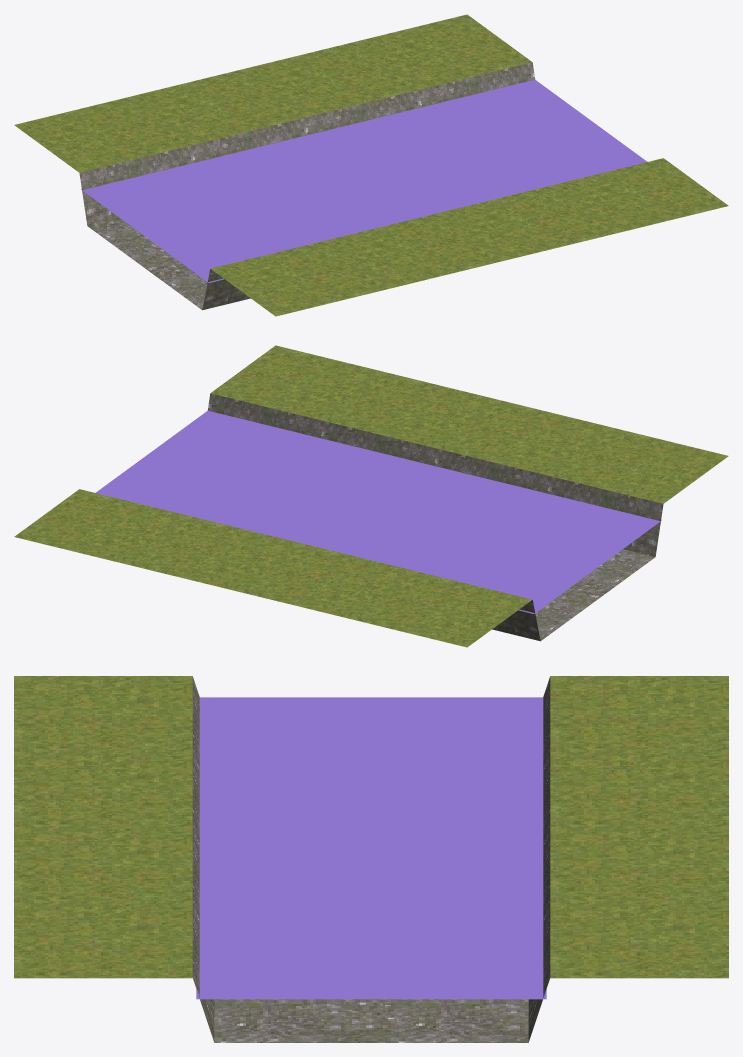
The model's file is piece_river_straight.glb.
3 renders of one model, top to bottom at view 1: azimuth 30°, elevation 25°; view 2: azimuth 150°, elevation 25°; view 3: azimuth 270°, elevation 25°, orthographic. The views are drawn at different scales.
Visible parts, largest first — view 1: piece_river_horizontal; view 2: piece_river_horizontal; view 3: piece_river_horizontal.
Boxes of the visible parts, <box> form: piece_river_horizontal: <box>14,14,728,316</box>; piece_river_horizontal: <box>14,345,728,647</box>; piece_river_horizontal: <box>14,676,728,1042</box>.
Bounding box in the file's own units: 4 × 0.4 × 4.
3 materials, 2 textured.
